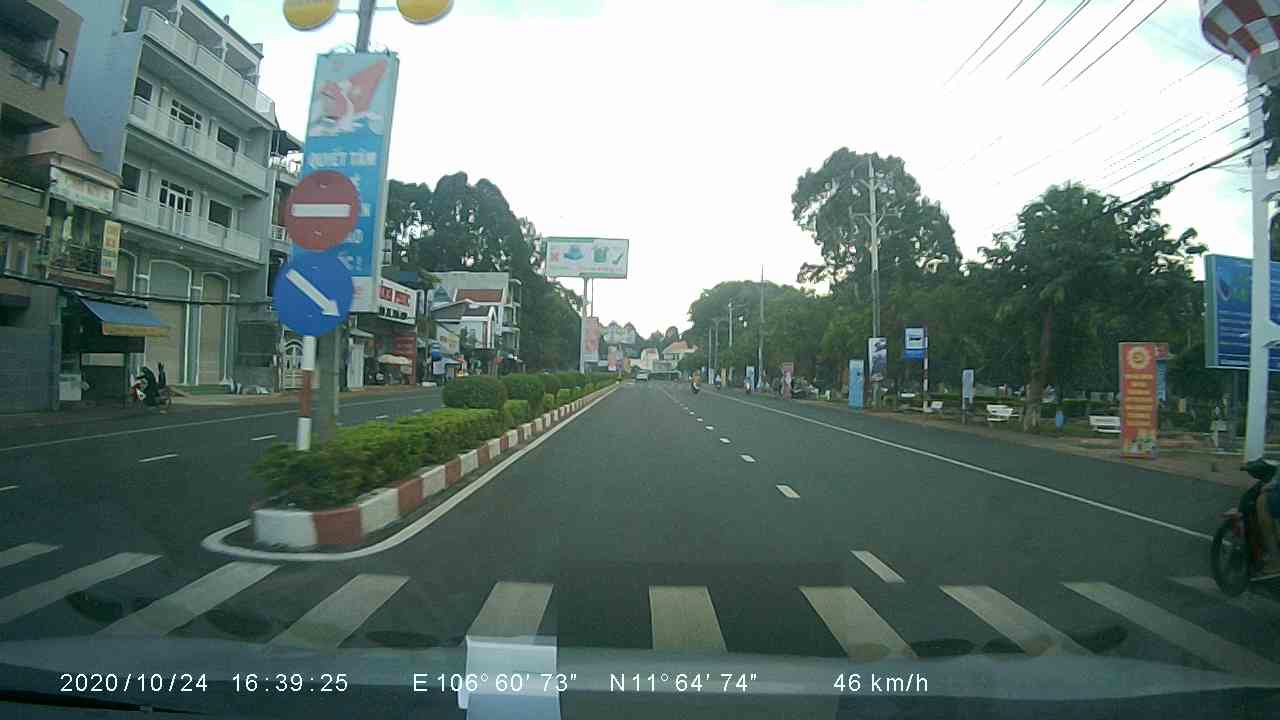Cam di nguoc chieu: (280, 166, 366, 252)
Huong di phai re phai: (269, 253, 358, 335)
